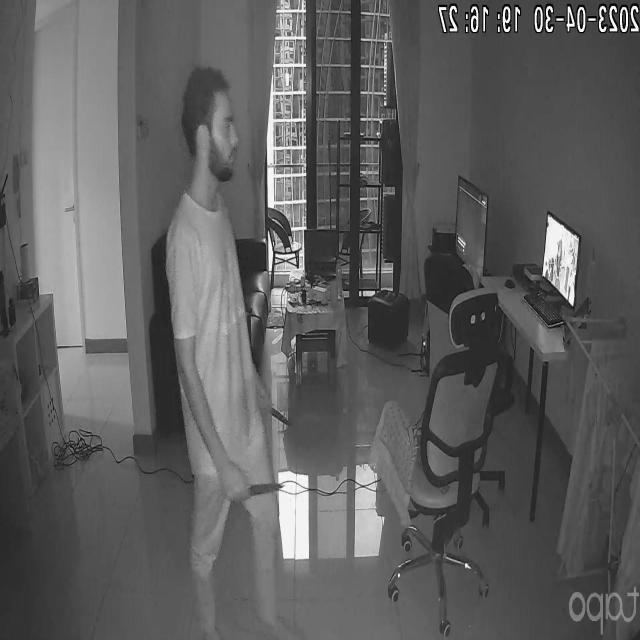Knife: (221, 471, 288, 505), (256, 389, 293, 437)
